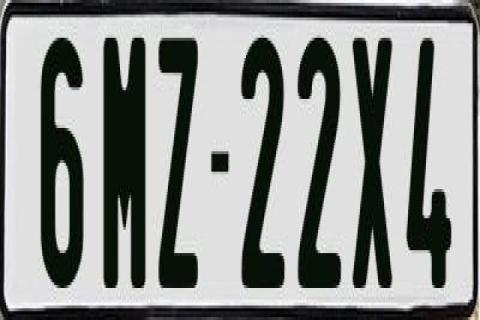0: (40, 29, 90, 294), (406, 29, 456, 285), (238, 32, 288, 285), (296, 38, 344, 291)
M: (101, 35, 149, 288)
X: (353, 32, 393, 296)
Z: (156, 35, 196, 294)
